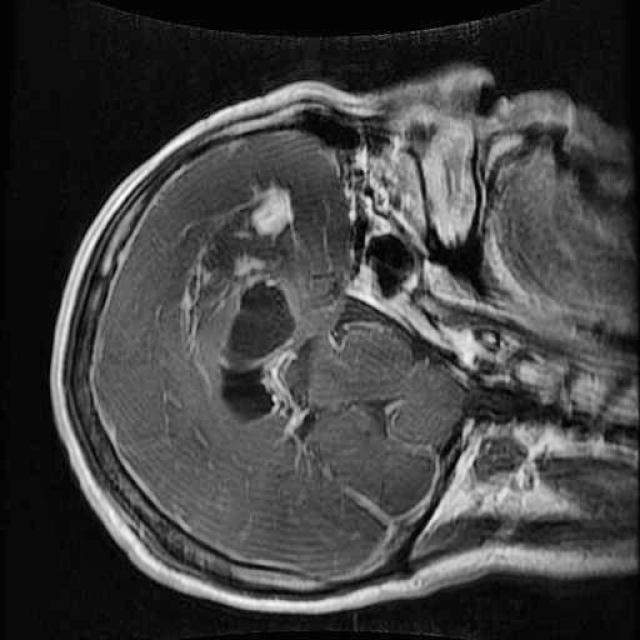Non-Tumor: (179, 164, 329, 438)
